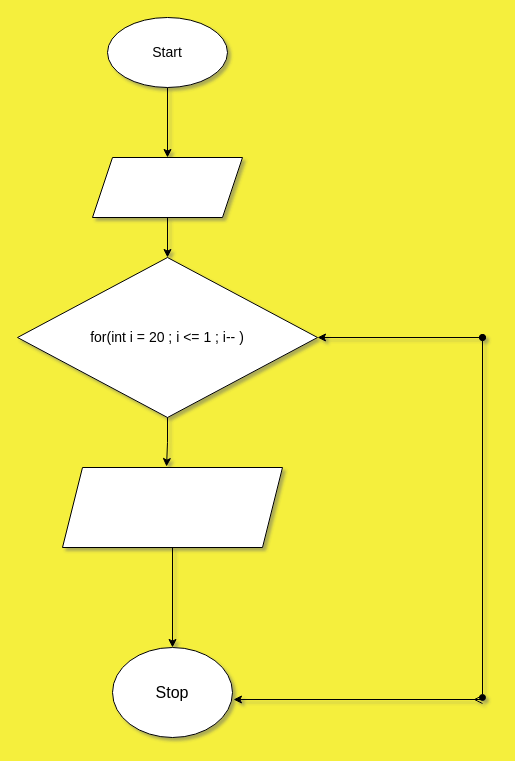
Image size: 515x761. Some labels were removed from this diagram. Here are the shapes that lost their labels. From the top down, the centre of each, then its label:
At point 167,187: "Start , End".
At point 172,507: "Print( i * 2 )".
